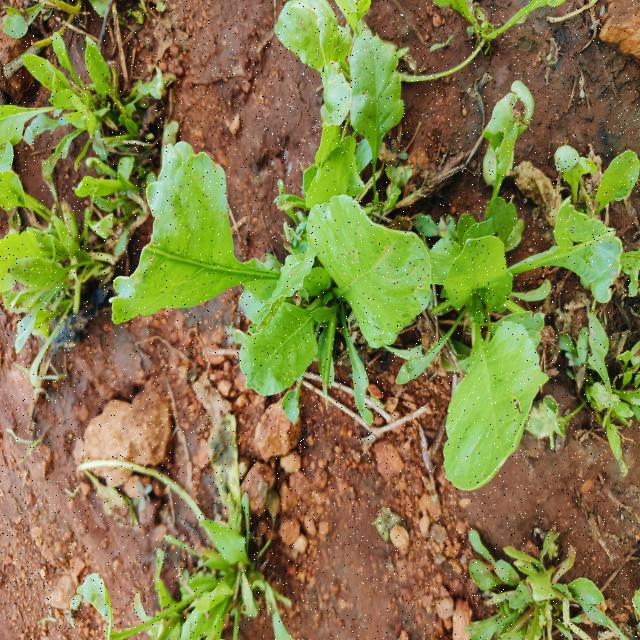leaves: (105, 156, 328, 342), (420, 277, 548, 500), (304, 177, 437, 347), (343, 31, 422, 205), (503, 192, 629, 298), (474, 58, 549, 225), (226, 284, 326, 405), (264, 1, 363, 115), (442, 214, 525, 327), (575, 120, 640, 222), (305, 125, 364, 218)
